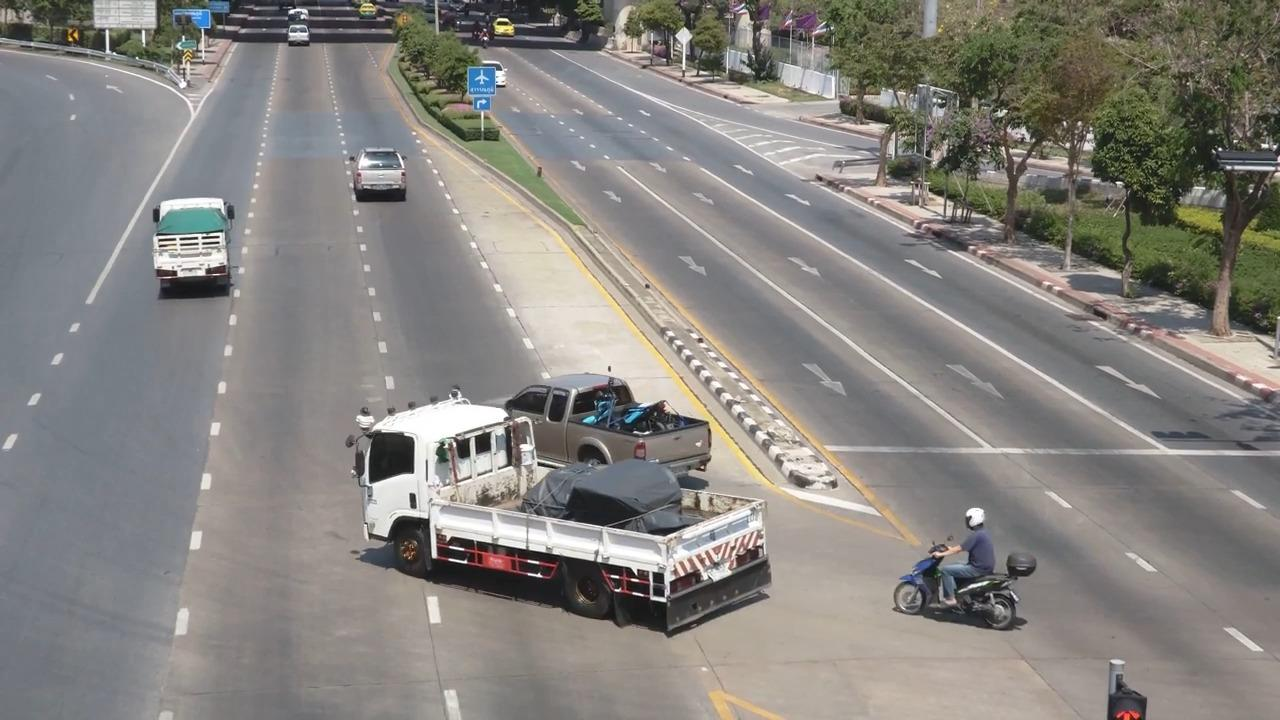CAR: (356, 399, 759, 646), (504, 359, 732, 461), (133, 180, 269, 315), (339, 136, 431, 226), (277, 19, 323, 62)
MOTOR: (882, 502, 1044, 640)
